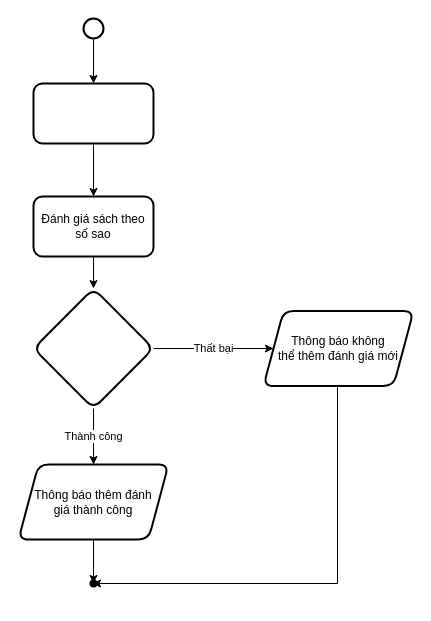
Image size: 431x621. Some labels were removed from this diagram. Here are the shapes that lost their labels. From the top down, the centre of each, then its label:
pixel 93 113: Chọn xem sách
pixel 93 348: Hệ thống ghi nhận đánh giá sách
